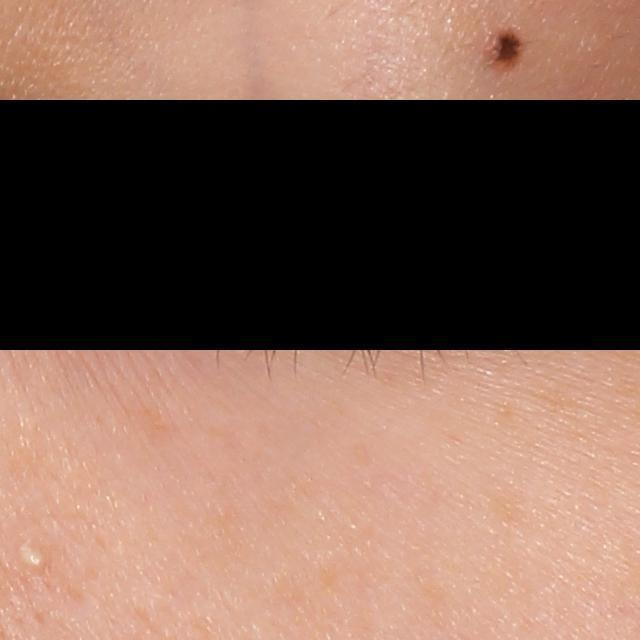melasma: (478, 478, 530, 526)
nevus: (493, 31, 521, 67)
